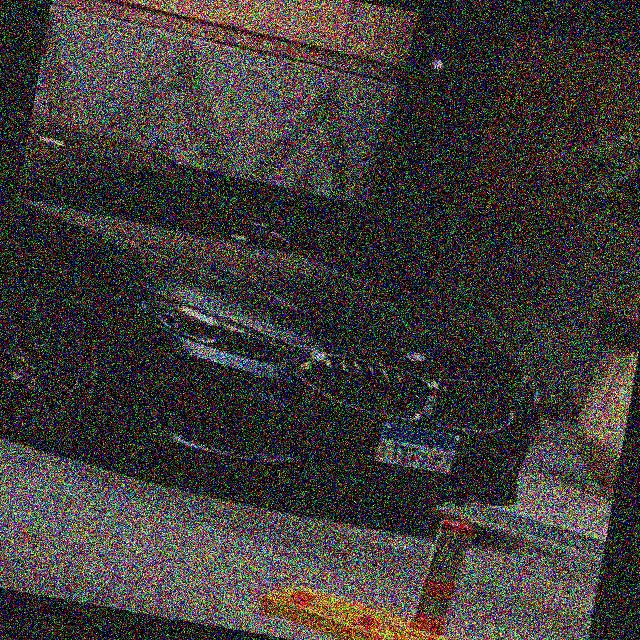License Plate: (370, 417, 463, 478)
